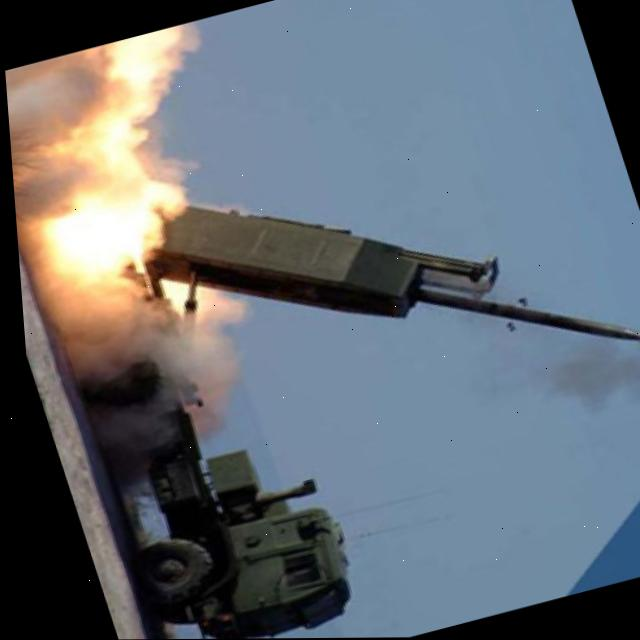missile: (422, 244, 640, 402)
